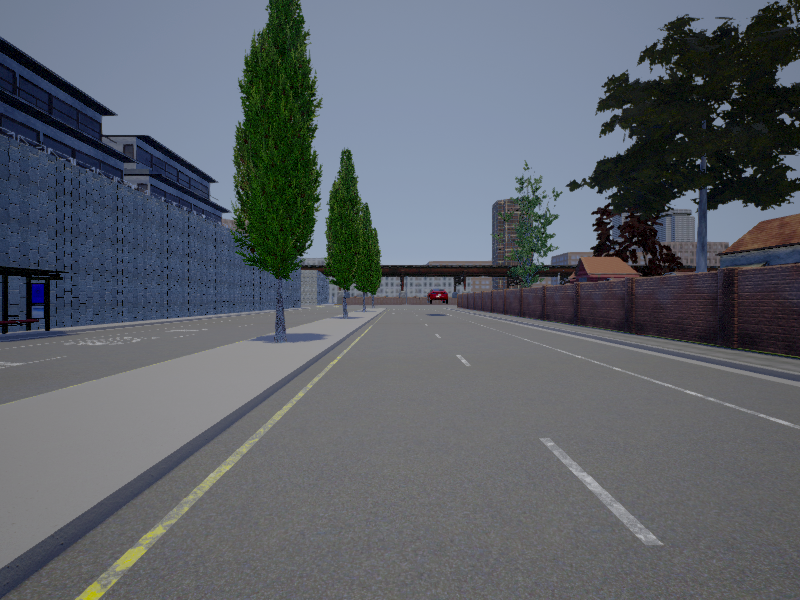Attacker: (427, 288, 448, 304)
